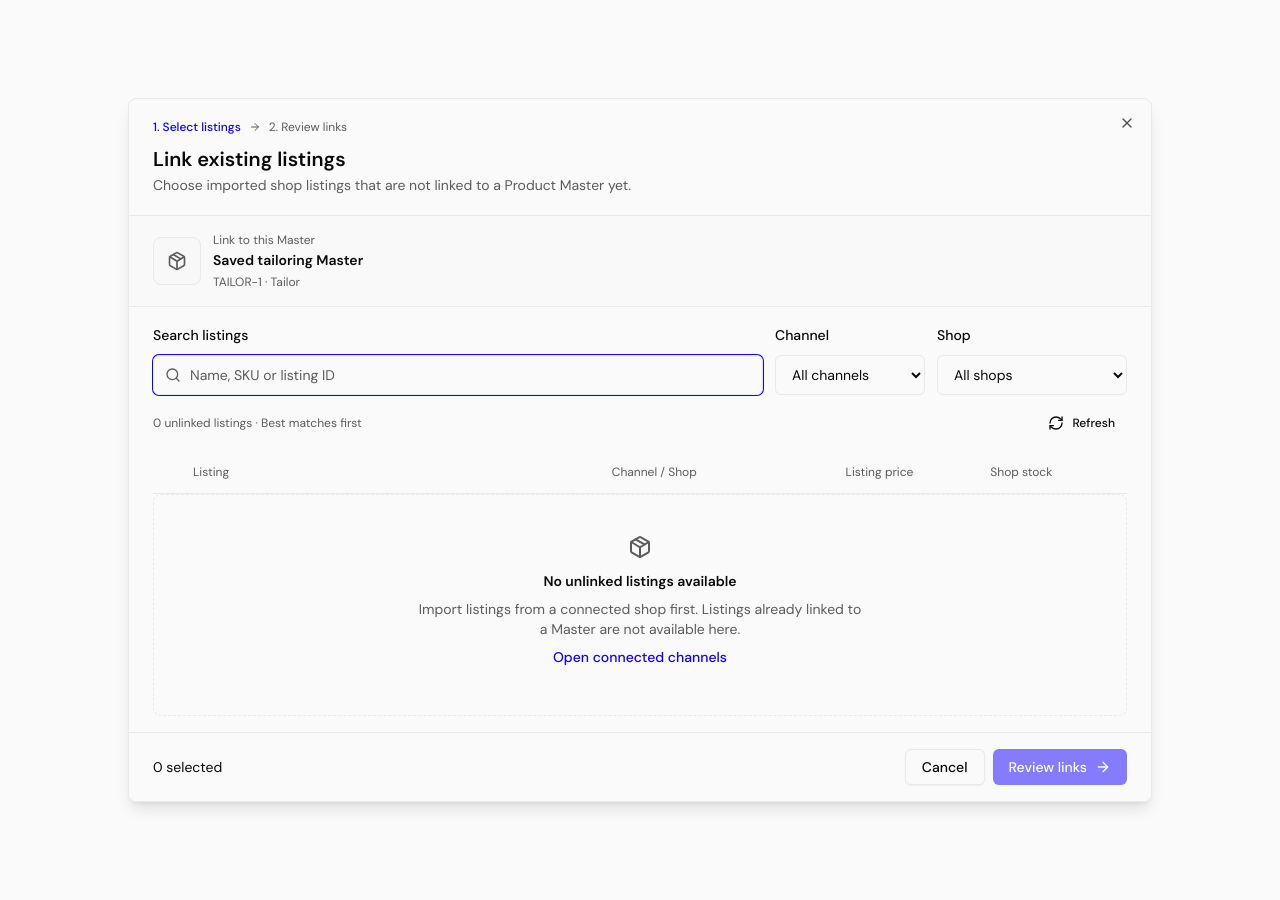
it: Link existing listings from a fixed Master › shows linked listings as unavailable only when searching, and excludes ignored records
Check: the heading "No unlinked listings available" is shown, box [543,572,737,590]
In the field labelled "Search listings": (458, 375) [153,355,763,395], type "listing"
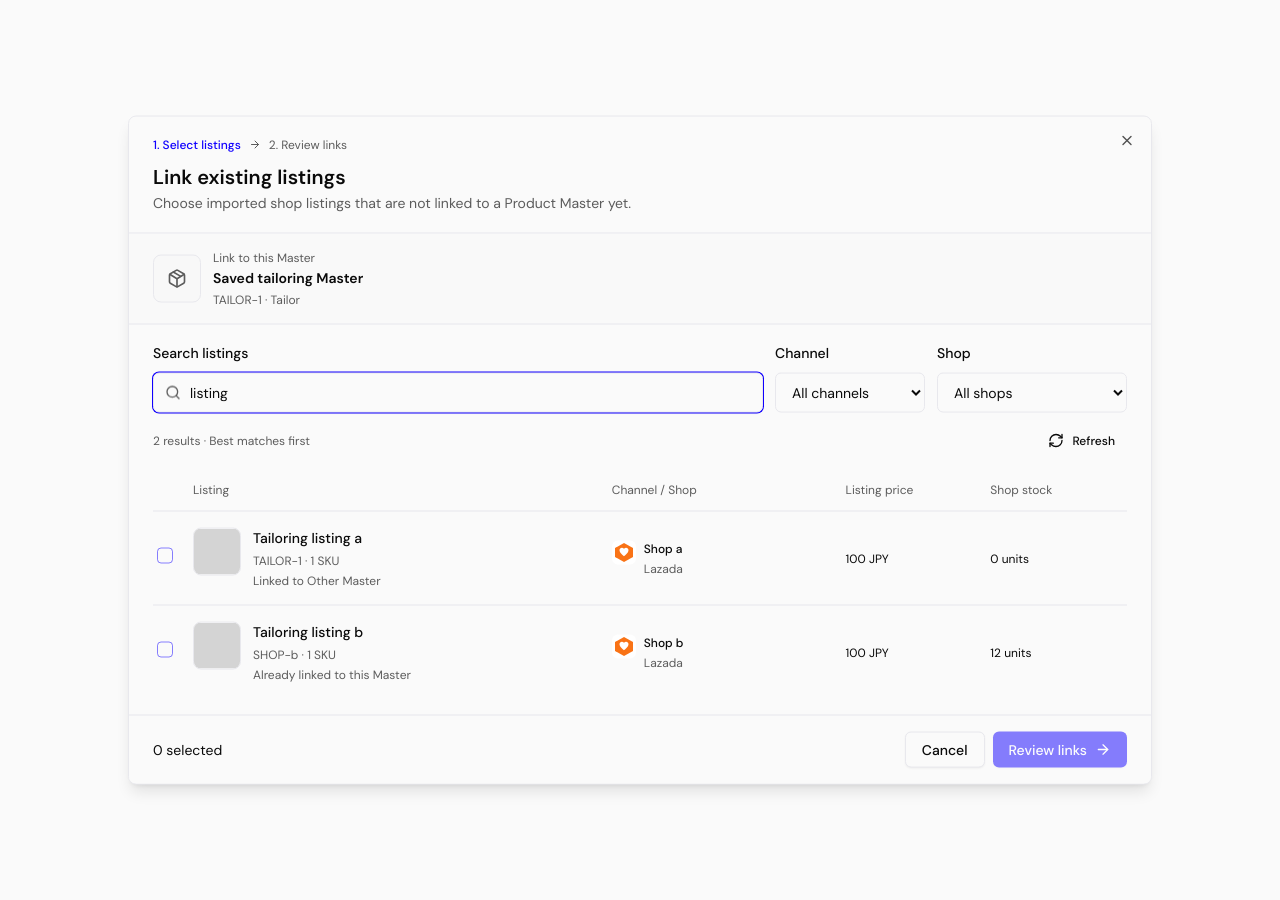
Check: the number of checkboxes is 2, box [157,548,173,564]; [157,642,173,658]
Check: the text "Linked to Other Master" is shown, box [253,572,381,588]
Check: the text "Already linked to this Master" is shown, box [253,666,411,682]
